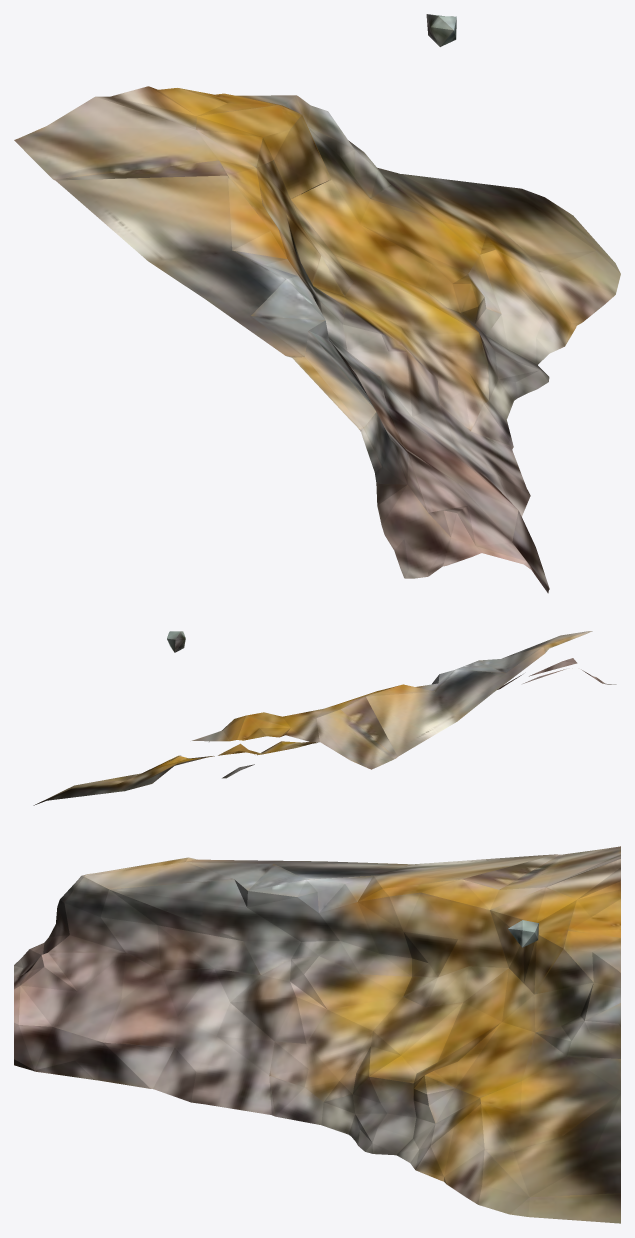
3 views of the same model, one above another, from view 1: azimuth 30°, elevation 25°; view 2: azimuth 150°, elevation 25°; view 3: azimuth 270°, elevation 25° (orthographic). The views are drawn at different scales.
Size of the model in its own units: 1.39 by 0.6958 by 1.67.
2 materials, 2 textured.
